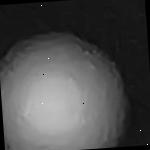colony: (0, 23, 135, 150)
